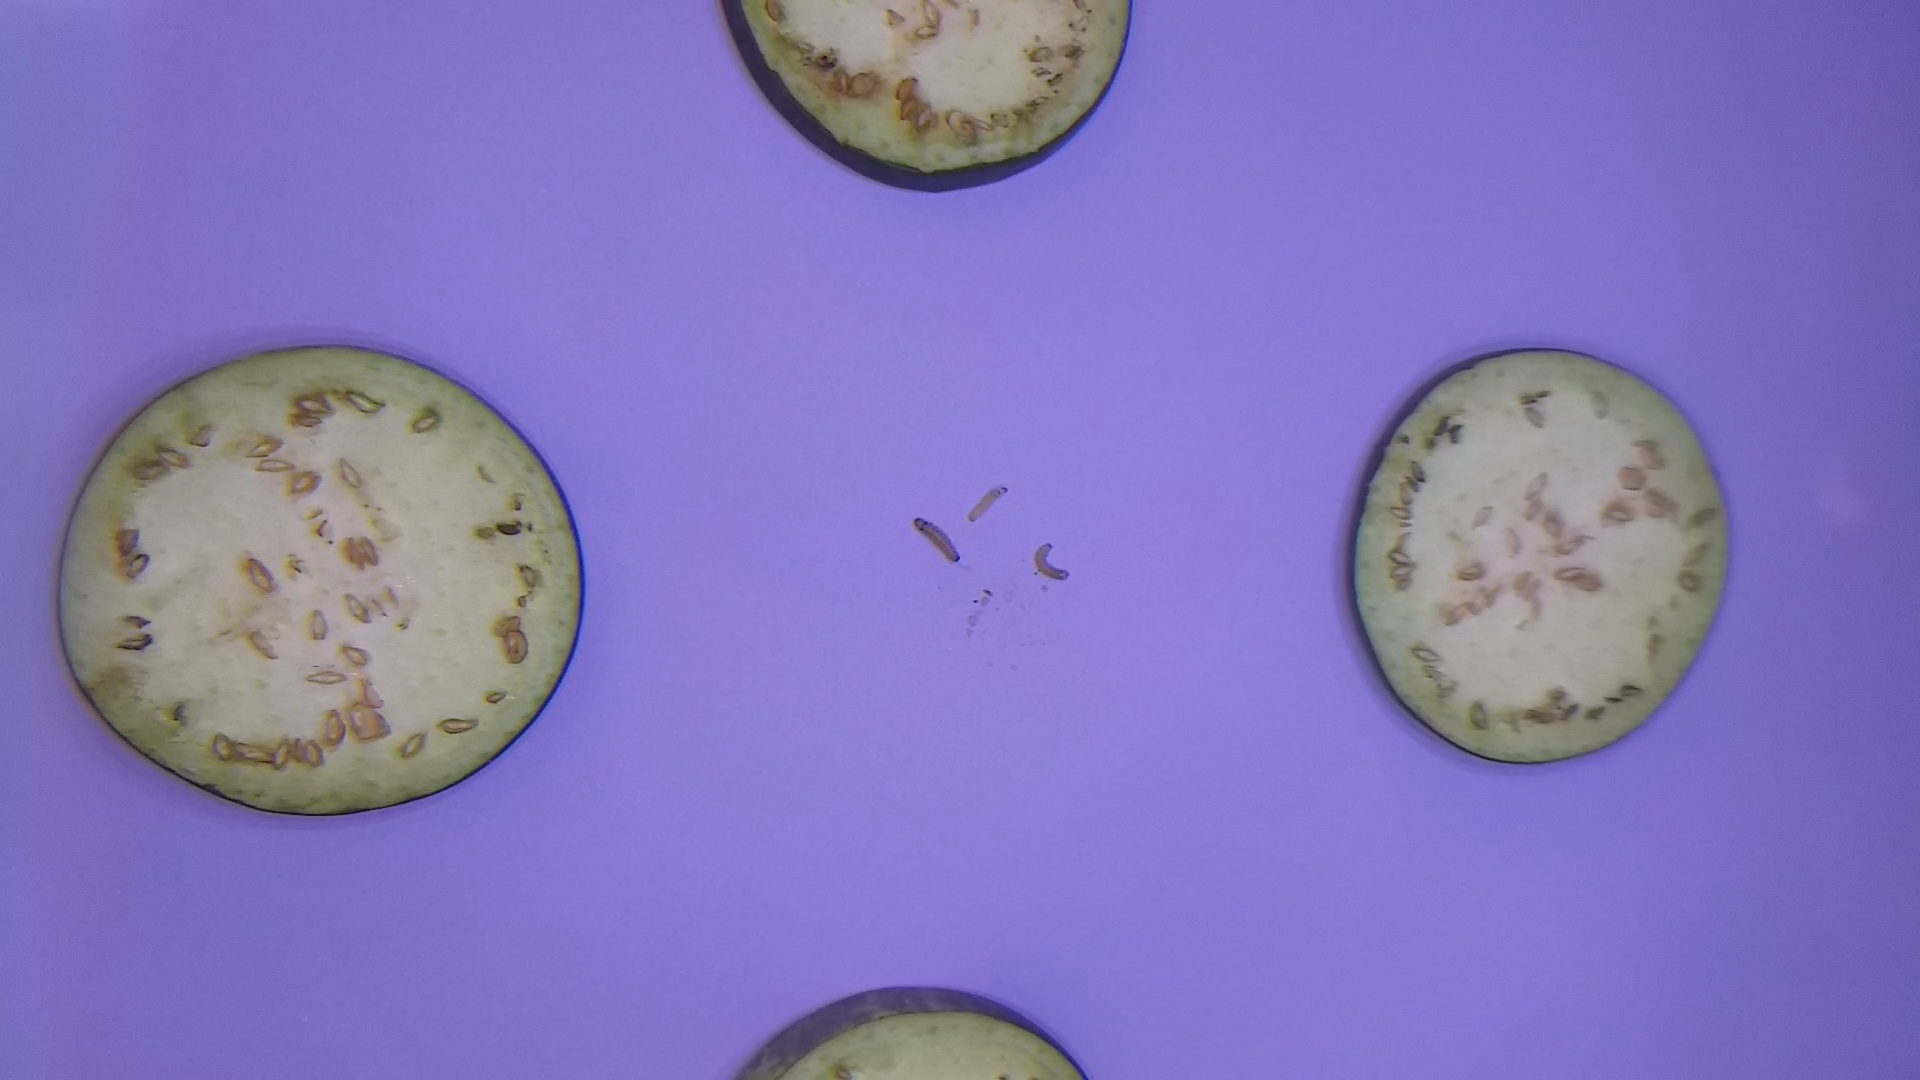efsb: (1031, 531, 1081, 592), (964, 473, 1014, 531), (913, 514, 961, 571)
eggplant: (44, 330, 597, 831), (1332, 335, 1753, 774), (713, 1, 1147, 206), (713, 975, 1112, 1080)
